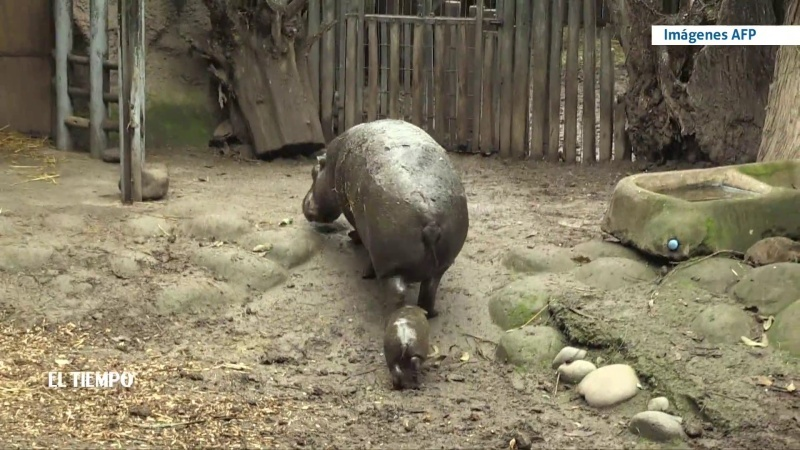hipopotamo: (289, 116, 487, 309), (362, 293, 456, 402)
